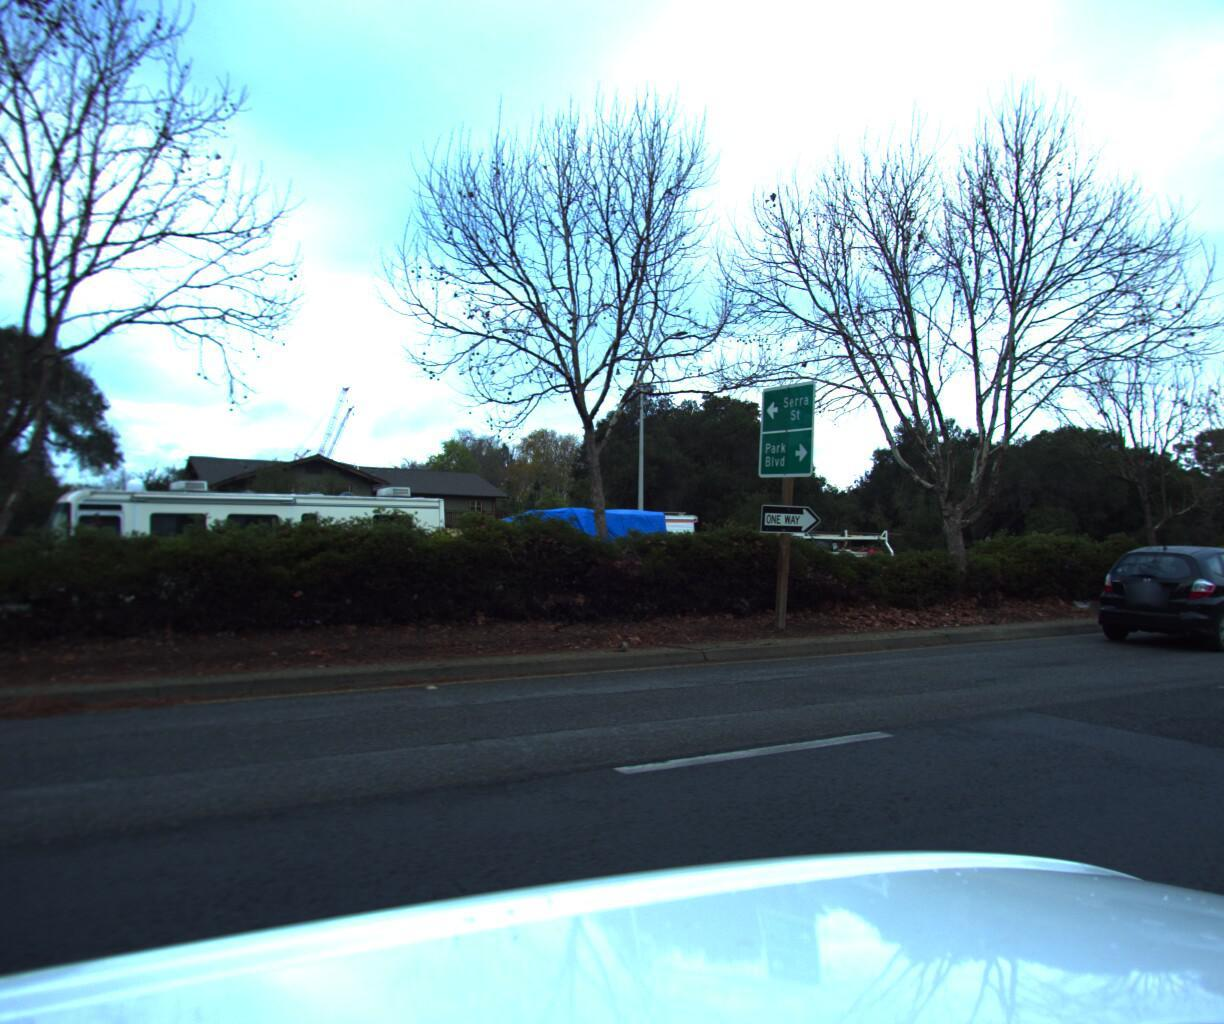car: (1083, 547, 1224, 657), (726, 502, 921, 562)
other_vehicle: (17, 458, 453, 622), (478, 496, 712, 620)
